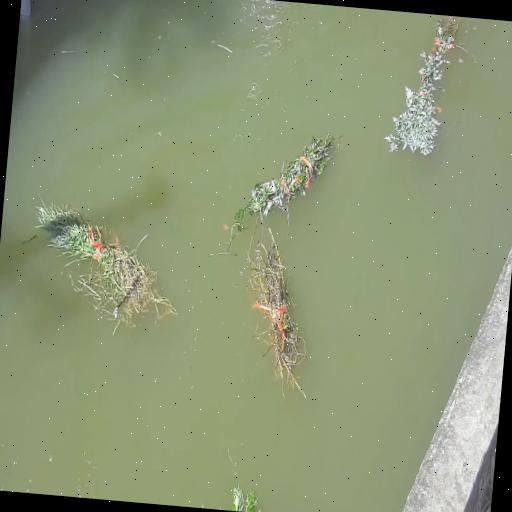twig: (32, 196, 177, 335), (386, 16, 463, 155), (232, 134, 336, 236), (248, 229, 306, 398), (231, 484, 258, 511)
